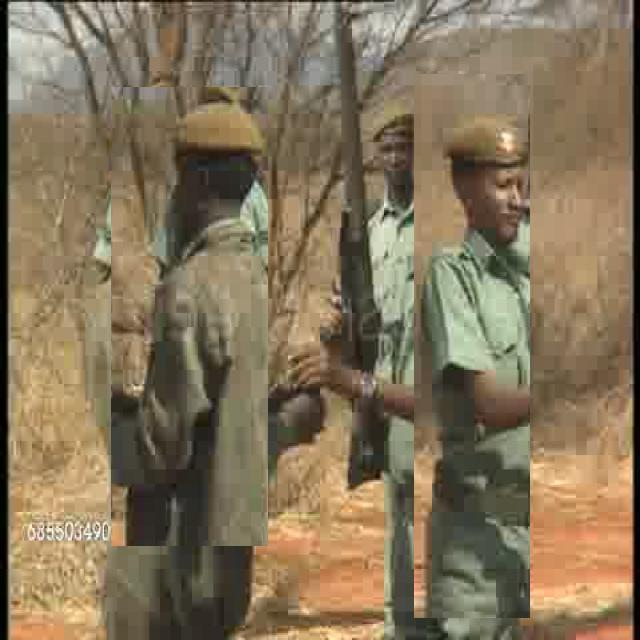poacher: (111, 87, 268, 546), (414, 74, 530, 618), (365, 105, 423, 201)
weapon: (328, 1, 388, 476)
